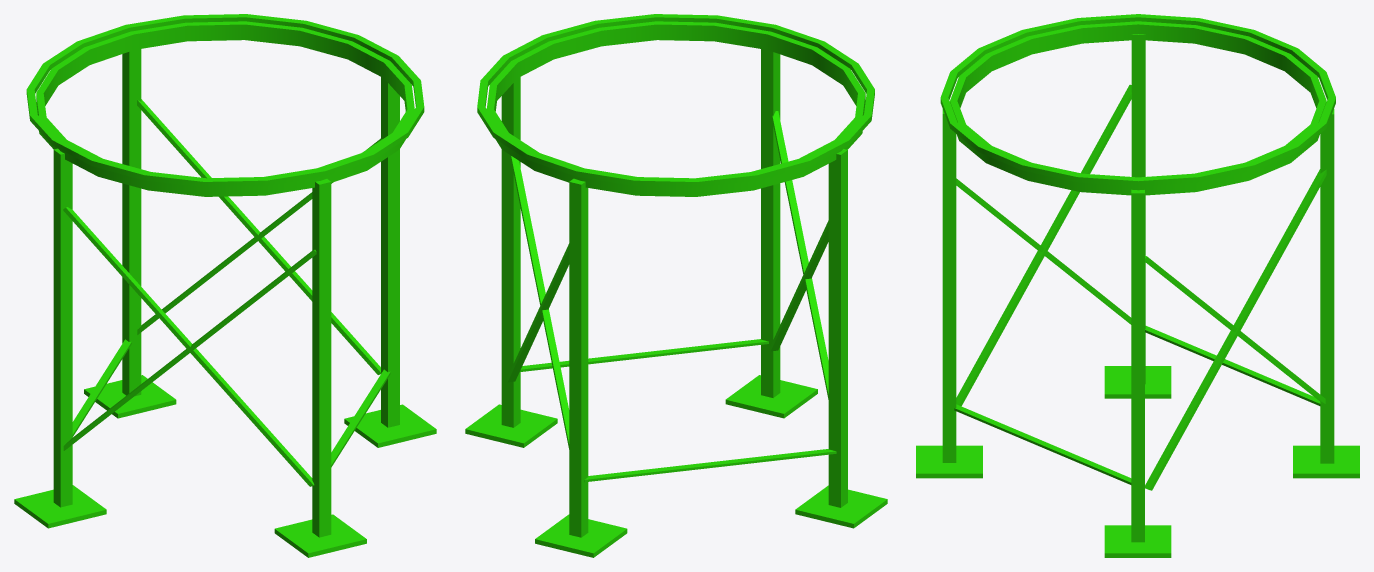
File: Factory_Silo_02A.fbx
3 views of the same model, side by side, from view 1: azimuth 30°, elevation 25°; view 2: azimuth 150°, elevation 25°; view 3: azimuth 270°, elevation 25° (orthographic).
Visible parts, largest first — view 1: Factory_Silo_02A; view 2: Factory_Silo_02A; view 3: Factory_Silo_02A.
Part boxes in pixels (<box>): Factory_Silo_02A: <box>14,14,436,557</box>; Factory_Silo_02A: <box>465,14,887,557</box>; Factory_Silo_02A: <box>916,14,1359,557</box>.
Bounding box in the file's own units: 826 × 757 × 827.
